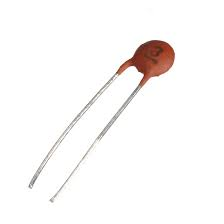ceramic capacitor: (115, 26, 193, 117)
